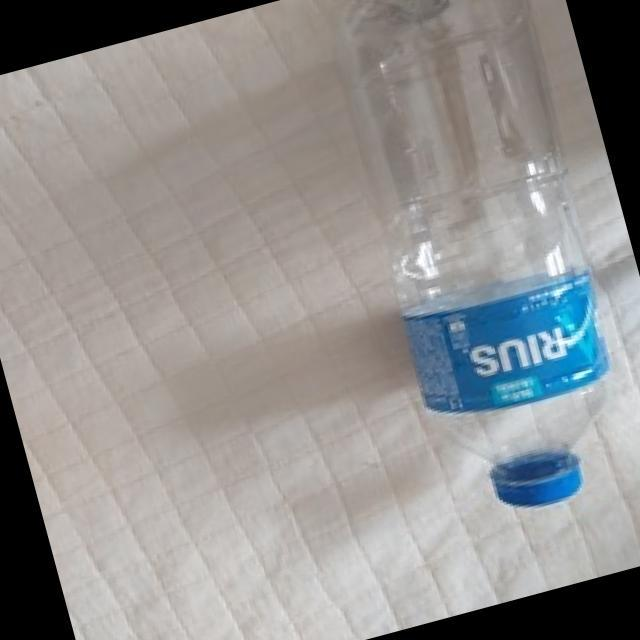good: (304, 0, 640, 543)
